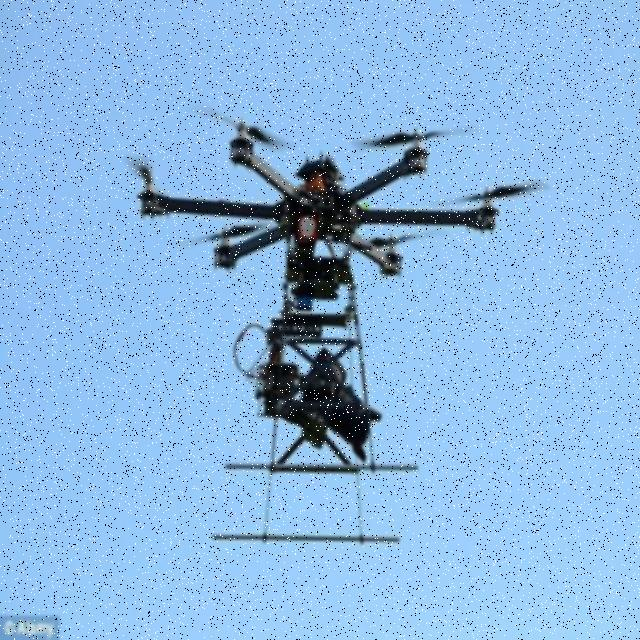UAV: (136, 119, 502, 547)
